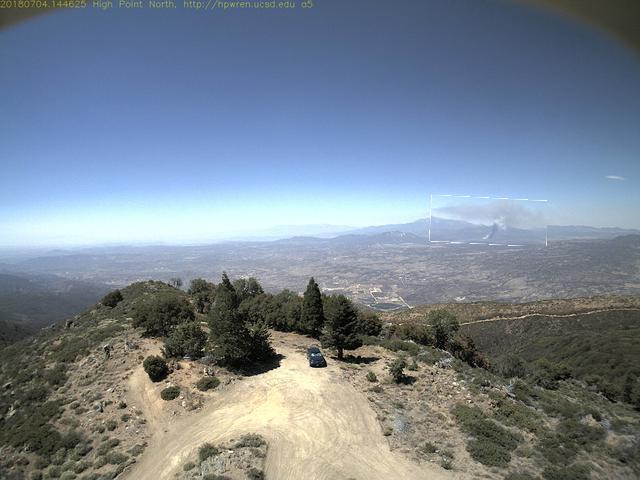smoke: (431, 198, 549, 247)
